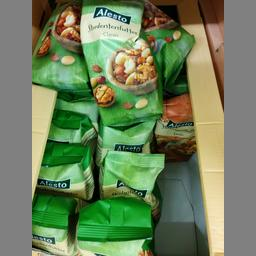nuts: (76, 1, 164, 128), (151, 90, 194, 164)
